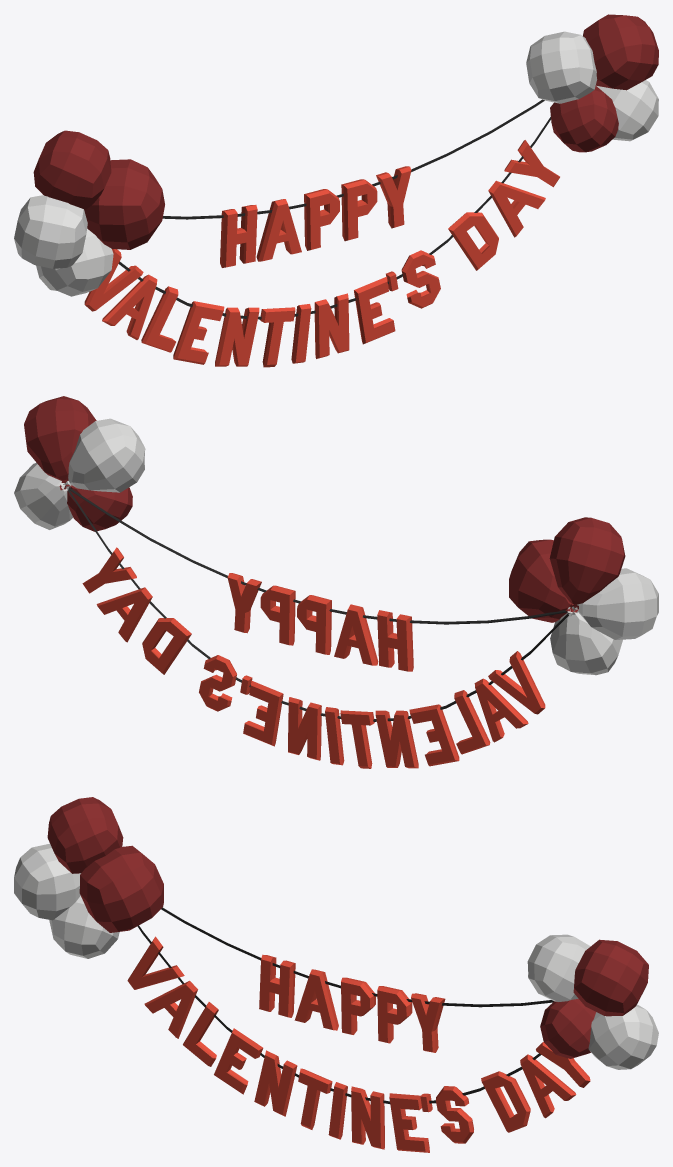
The model's file is props-balloons-sign-happy-valentines-day-big.glb.
The picture shows the model from 3 angles, top to bottom: view 1: azimuth 30°, elevation 25°; view 2: azimuth 150°, elevation 25°; view 3: azimuth 330°, elevation 25°; orthographic projection. The views are drawn at different scales.
Parts seen in each view (by area): view 1: balloons-sign-happy-valentines-day-big; view 2: balloons-sign-happy-valentines-day-big; view 3: balloons-sign-happy-valentines-day-big.
Part boxes in pixels (bbox=[...]): balloons-sign-happy-valentines-day-big: bbox=[14, 14, 658, 367]; balloons-sign-happy-valentines-day-big: bbox=[14, 396, 658, 768]; balloons-sign-happy-valentines-day-big: bbox=[14, 797, 658, 1152].
Size of the model in its own units: 3.09 by 1.37 by 0.3934.
